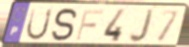4: (102, 8, 128, 43)
7: (155, 9, 180, 44)
F: (74, 9, 105, 42)
J: (128, 8, 156, 45)
S: (49, 7, 79, 43)
U: (24, 7, 55, 42)
